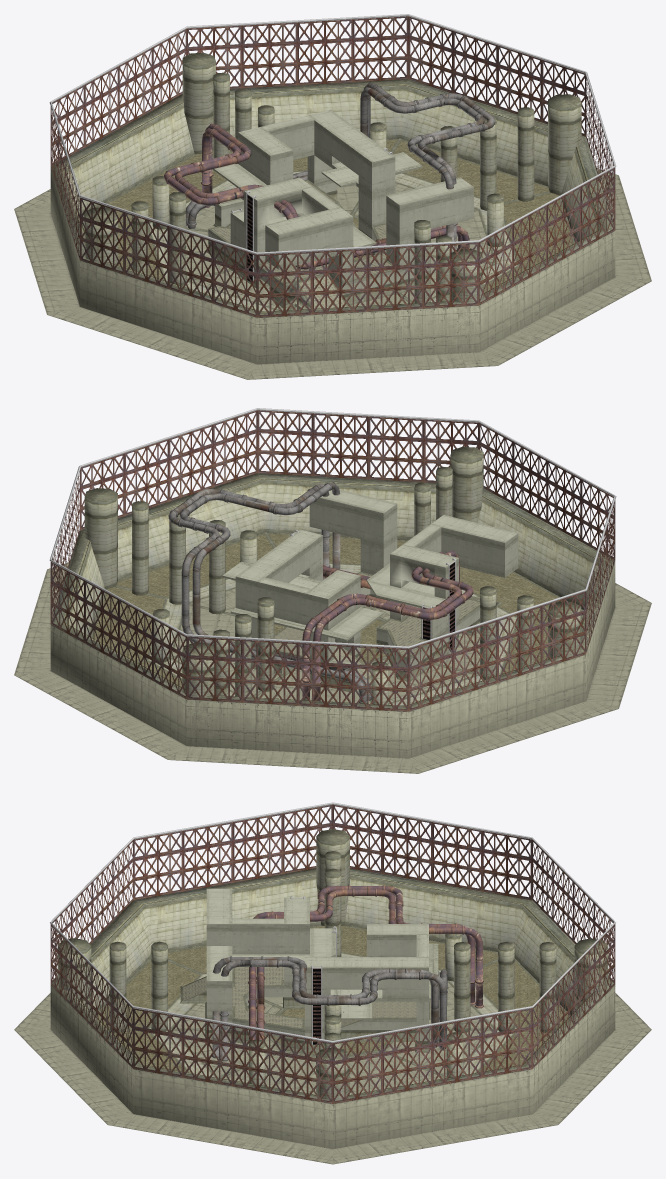
File: BASKET_JUNGLEGYM.fbx
3 views of the same model, one above another, from view 1: azimuth 30°, elevation 25°; view 2: azimuth 150°, elevation 25°; view 3: azimuth 270°, elevation 25° (orthographic). The views are drawn at different scales.
Parts seen in each view (by area): view 1: Basket_Junglegym CONCRETE, Basket_Junglegym METAL; view 2: Basket_Junglegym CONCRETE, Basket_Junglegym METAL; view 3: Basket_Junglegym CONCRETE, Basket_Junglegym METAL.
Boxes of the visible parts, x1,y1,x2,y2 form: Basket_Junglegym CONCRETE: (14, 52, 651, 379); Basket_Junglegym METAL: (49, 14, 616, 317); Basket_Junglegym CONCRETE: (14, 446, 651, 773); Basket_Junglegym METAL: (49, 408, 616, 711); Basket_Junglegym CONCRETE: (14, 829, 651, 1164); Basket_Junglegym METAL: (50, 802, 615, 1103).
Size of the model in its own units: 103 by 19.2 by 103.
